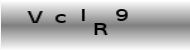9: (114, 8, 129, 22)
R: (93, 22, 108, 36)
V: (26, 9, 43, 24)
c: (52, 13, 69, 24)
l: (81, 8, 85, 22)
